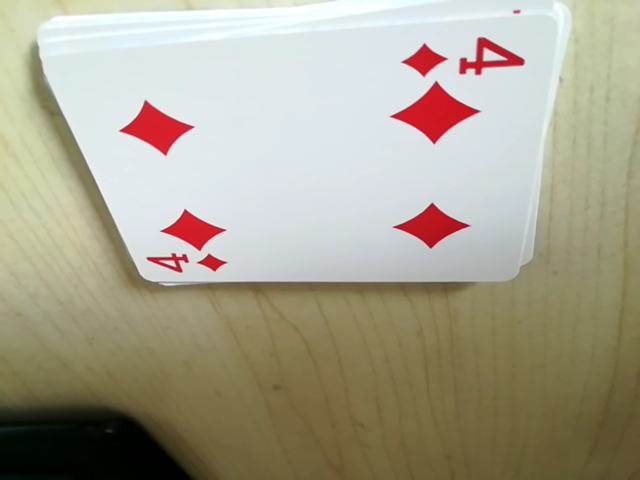fk 4: (397, 25, 530, 84), (138, 247, 231, 284)
